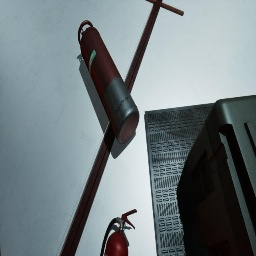FireExtinguisher ]: (100, 209, 137, 256)
NitrogenTank ,: (78, 20, 139, 144)
